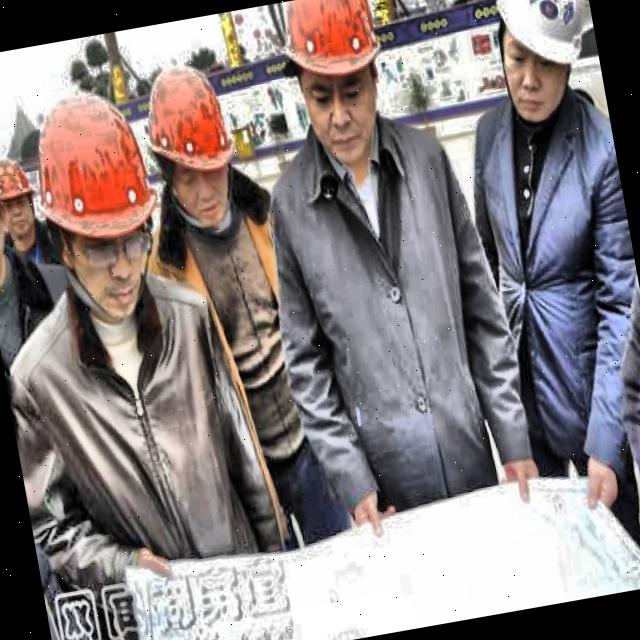helmet: (28, 101, 164, 319), (130, 54, 253, 257), (280, 0, 401, 171), (479, 0, 598, 134), (0, 137, 41, 257), (0, 109, 12, 289)
